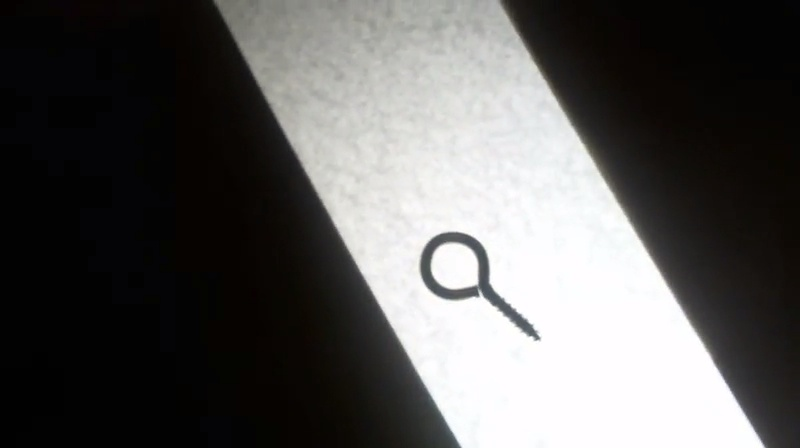O001: (416, 228, 545, 349)
